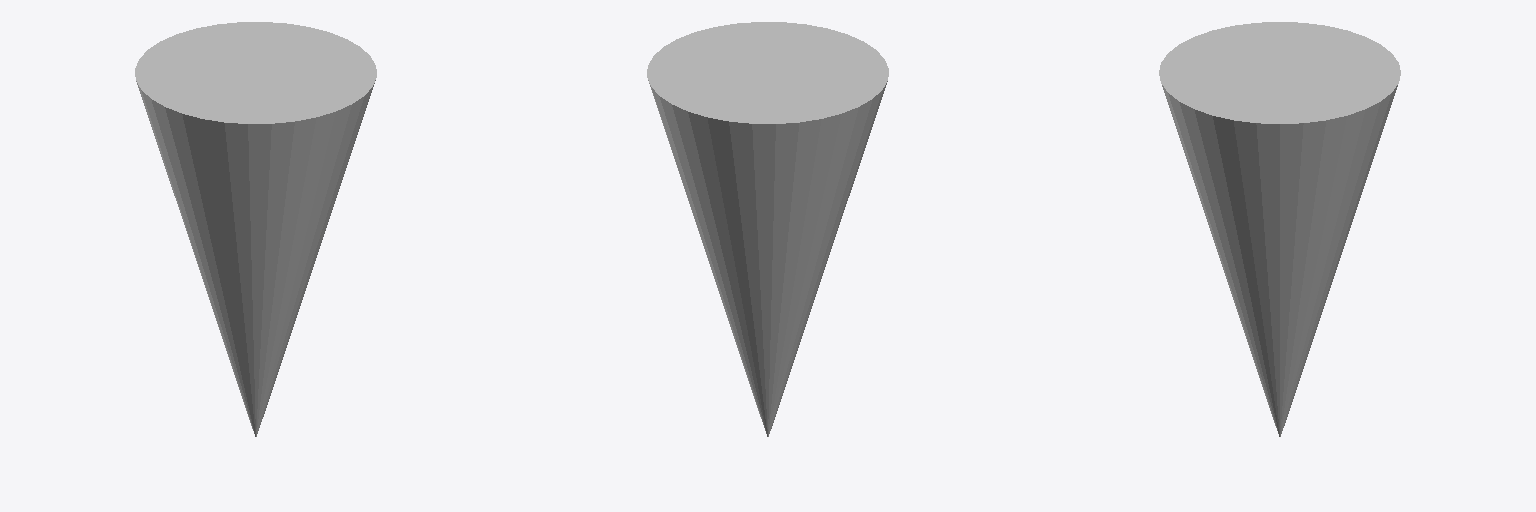
File: coneCollider.obj
The picture shows the model from 3 angles: view 1: azimuth 30°, elevation 25°; view 2: azimuth 150°, elevation 25°; view 3: azimuth 270°, elevation 25°; orthographic projection.
Visible parts, largest first — view 1: Cone; view 2: Cone; view 3: Cone.
Boxes of the visible parts, x1=… form: Cone: x1=135, y1=22, x2=376, y2=436; Cone: x1=647, y1=22, x2=888, y2=436; Cone: x1=1159, y1=22, x2=1400, y2=436.
Size of the model in its own units: 2 by 3.33 by 2.